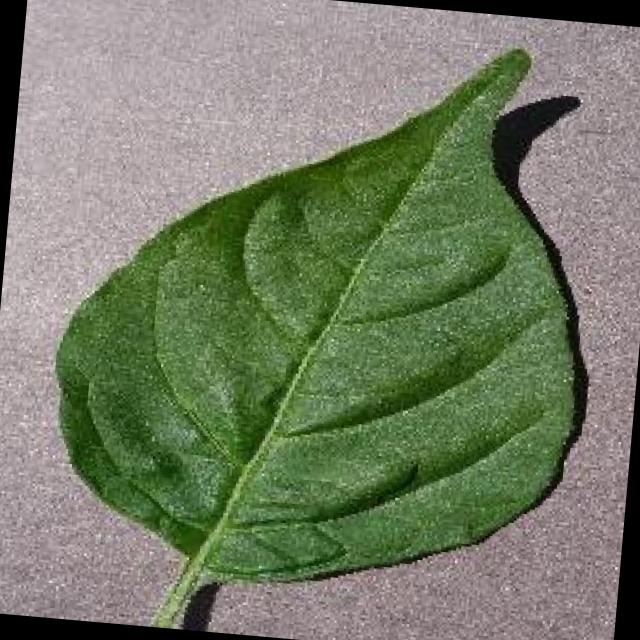Chilli_Healthy: (28, 5, 617, 640)
